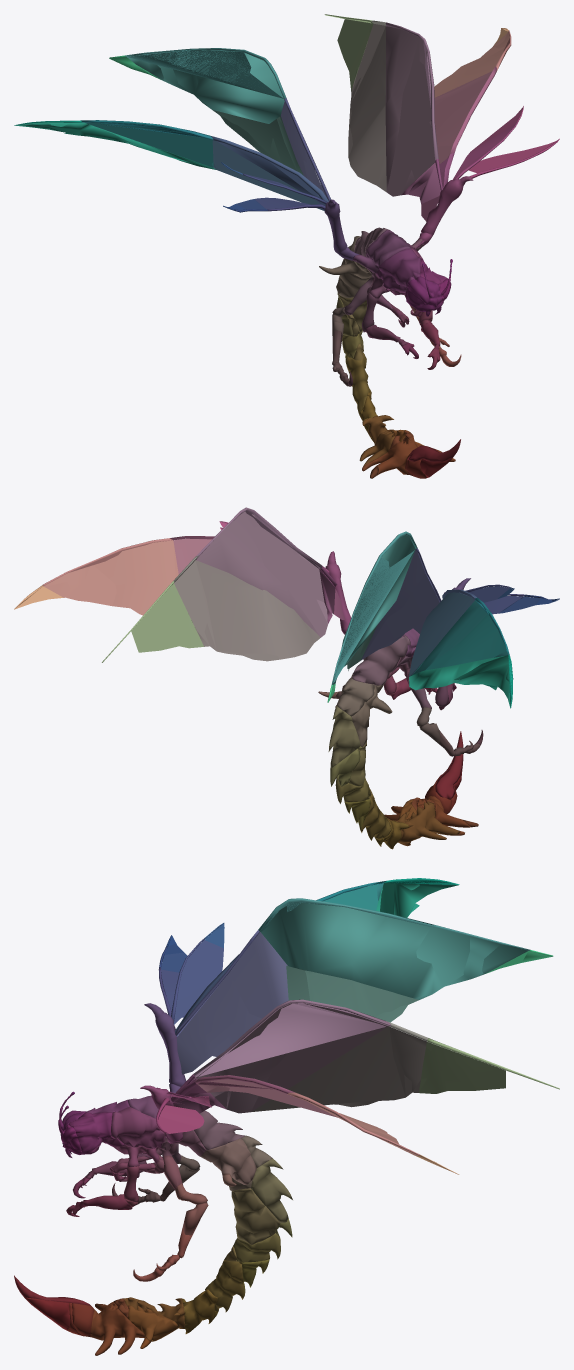
The model's file is YeLing_Broken1.FBX.
3 views of the same model, one above another, from view 1: azimuth 30°, elevation 25°; view 2: azimuth 150°, elevation 25°; view 3: azimuth 270°, elevation 25° (orthographic). The views are drawn at different scales.
Parts seen in each view (by area): view 1: Object01; view 2: Object01; view 3: Object01.
Boxes of the visible parts, x1=… form: Object01: x1=14, y1=14, x2=559, y2=478; Object01: x1=14, y1=507, x2=559, y2=849; Object01: x1=14, y1=878, x2=559, y2=1355.
Bounding box in the file's own units: 658 × 476 × 571.
